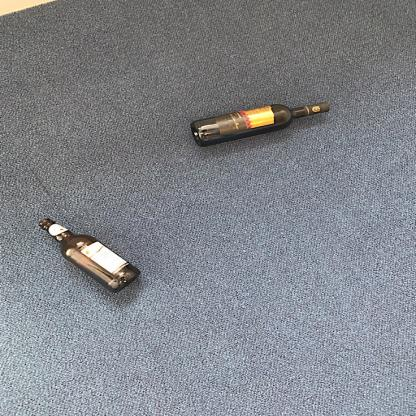trash: (33, 214, 151, 298), (188, 97, 334, 148)
